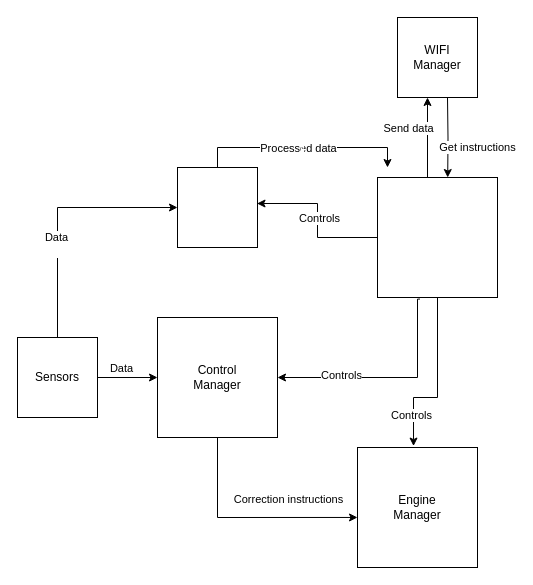
This 533x585 diagram has some shape labels left out. Here are the shapes that lost their labels. From the top down, the centre of each, then its label:
At (217,207): "Data Manager".
At (437,237): "Master Controller".
